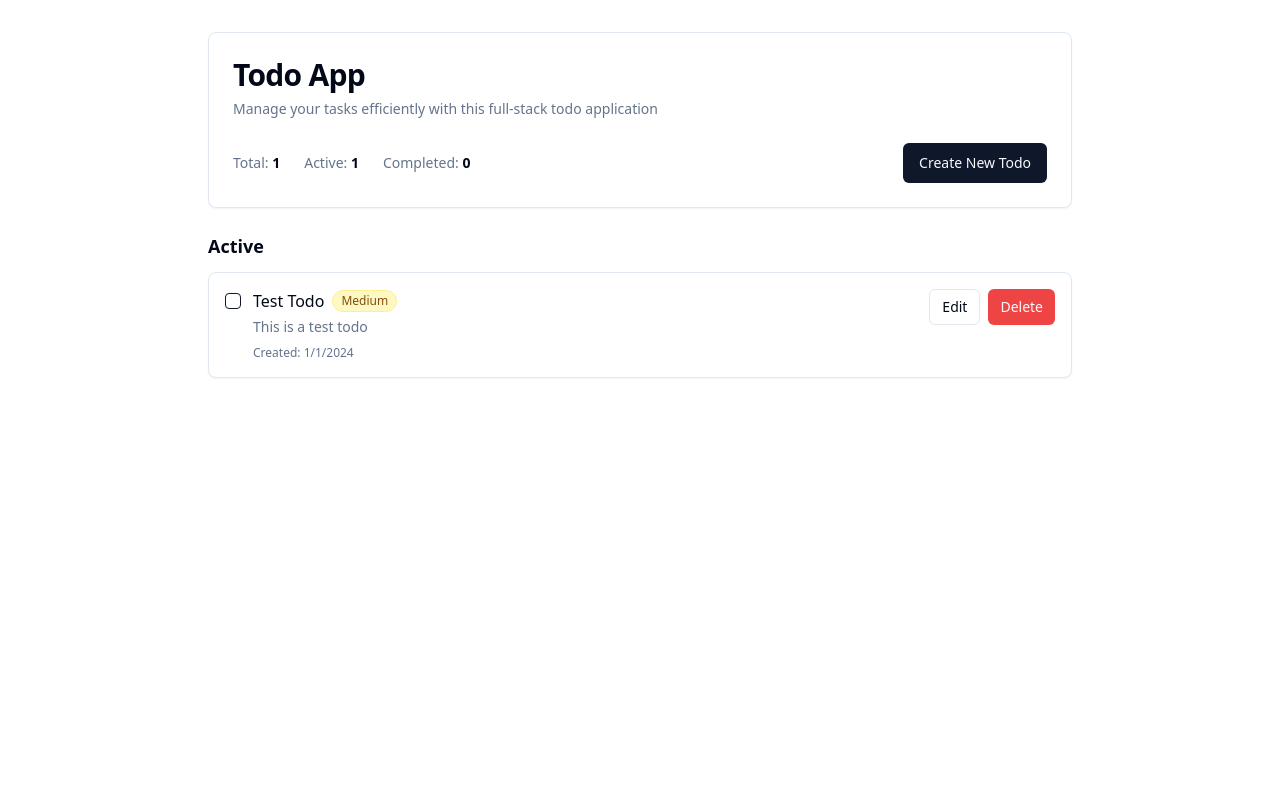
Test: HomePage › should open edit dialog when edit button is clicked
Expected: the heading "Test Todo" is shown, [253,289,324,313]
What coordinates should you click on to do the following:
click the button "Edit"
I would click on:
 (955, 307)
Its box is [929,289,980,325].
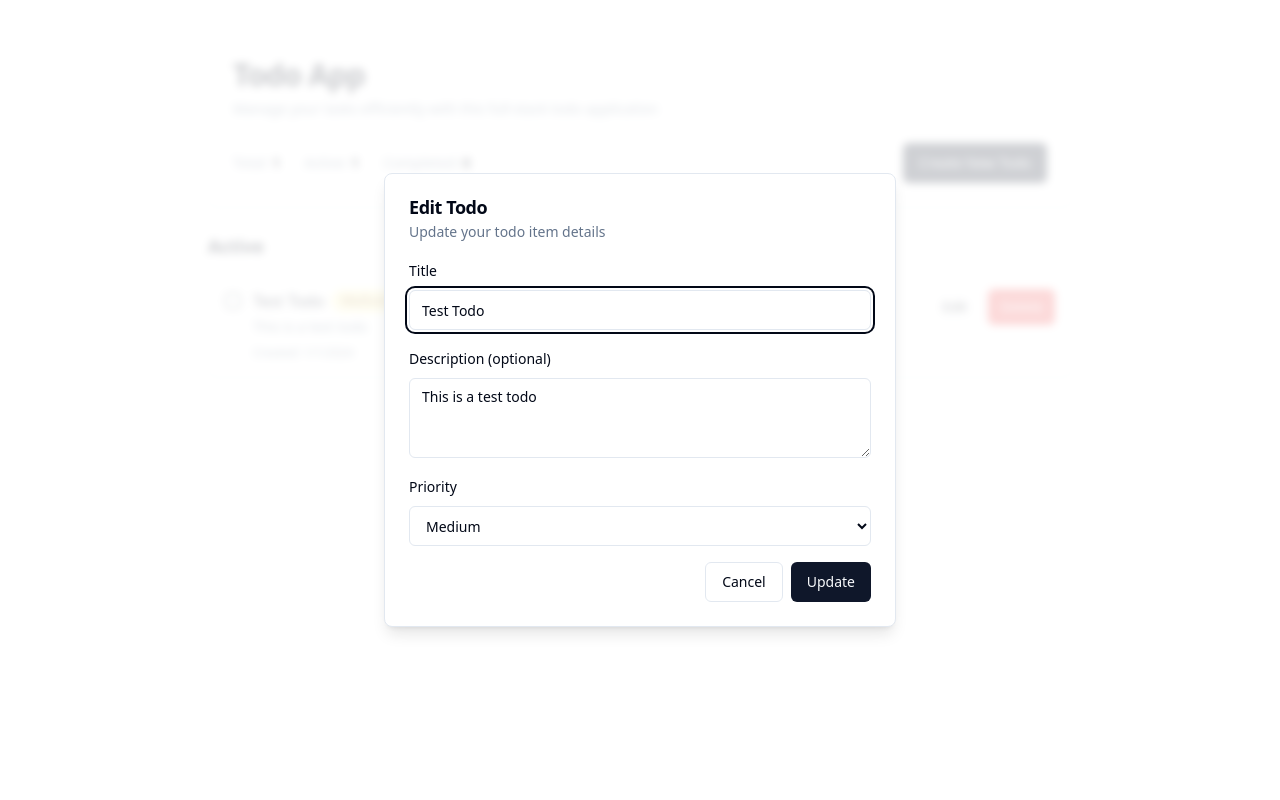
Now the heading "Edit Todo" is shown, box [409,195,487,219]
